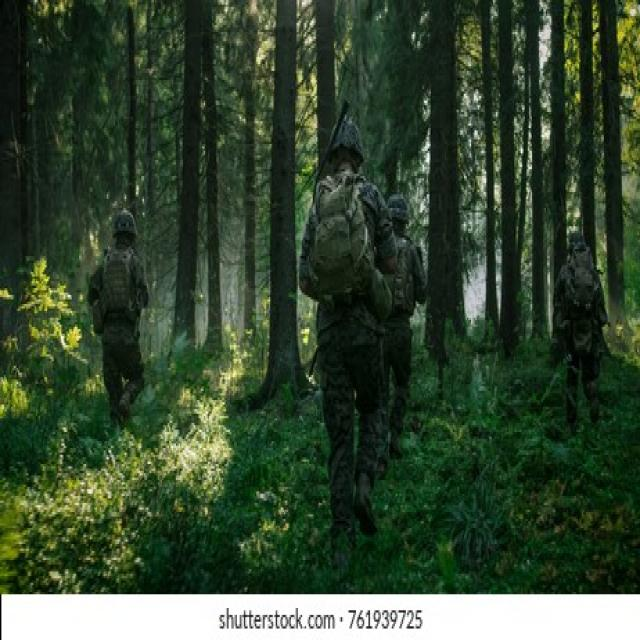Forest: (0, 0, 640, 595)
Militant: (295, 103, 400, 556), (76, 183, 165, 464), (542, 202, 615, 471), (370, 178, 429, 474)
